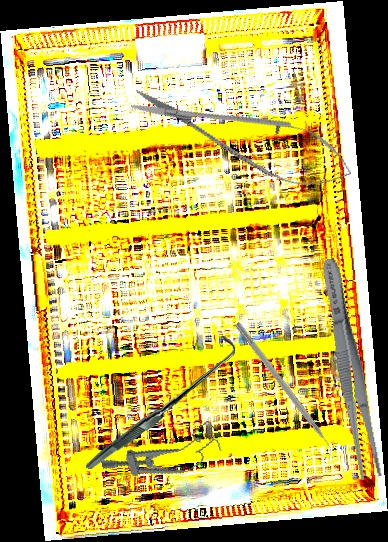Chopper: (227, 321, 339, 462)
Dressing Forceps: (314, 256, 387, 481)
Hook Surgical: (85, 331, 236, 474)
Micro Scissor: (123, 70, 361, 202)
Speculum: (98, 419, 226, 494)
